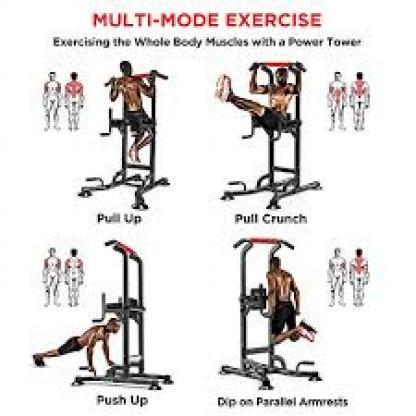chinning dipping: (212, 61, 325, 210), (219, 237, 326, 390), (78, 59, 169, 210)
